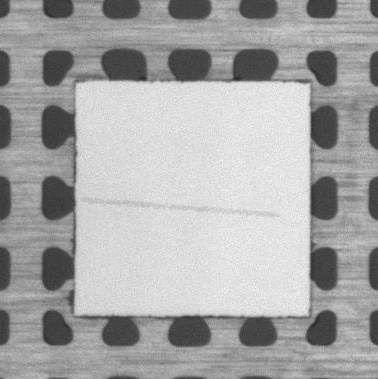DIE_CRACK: (83, 201, 277, 216)
